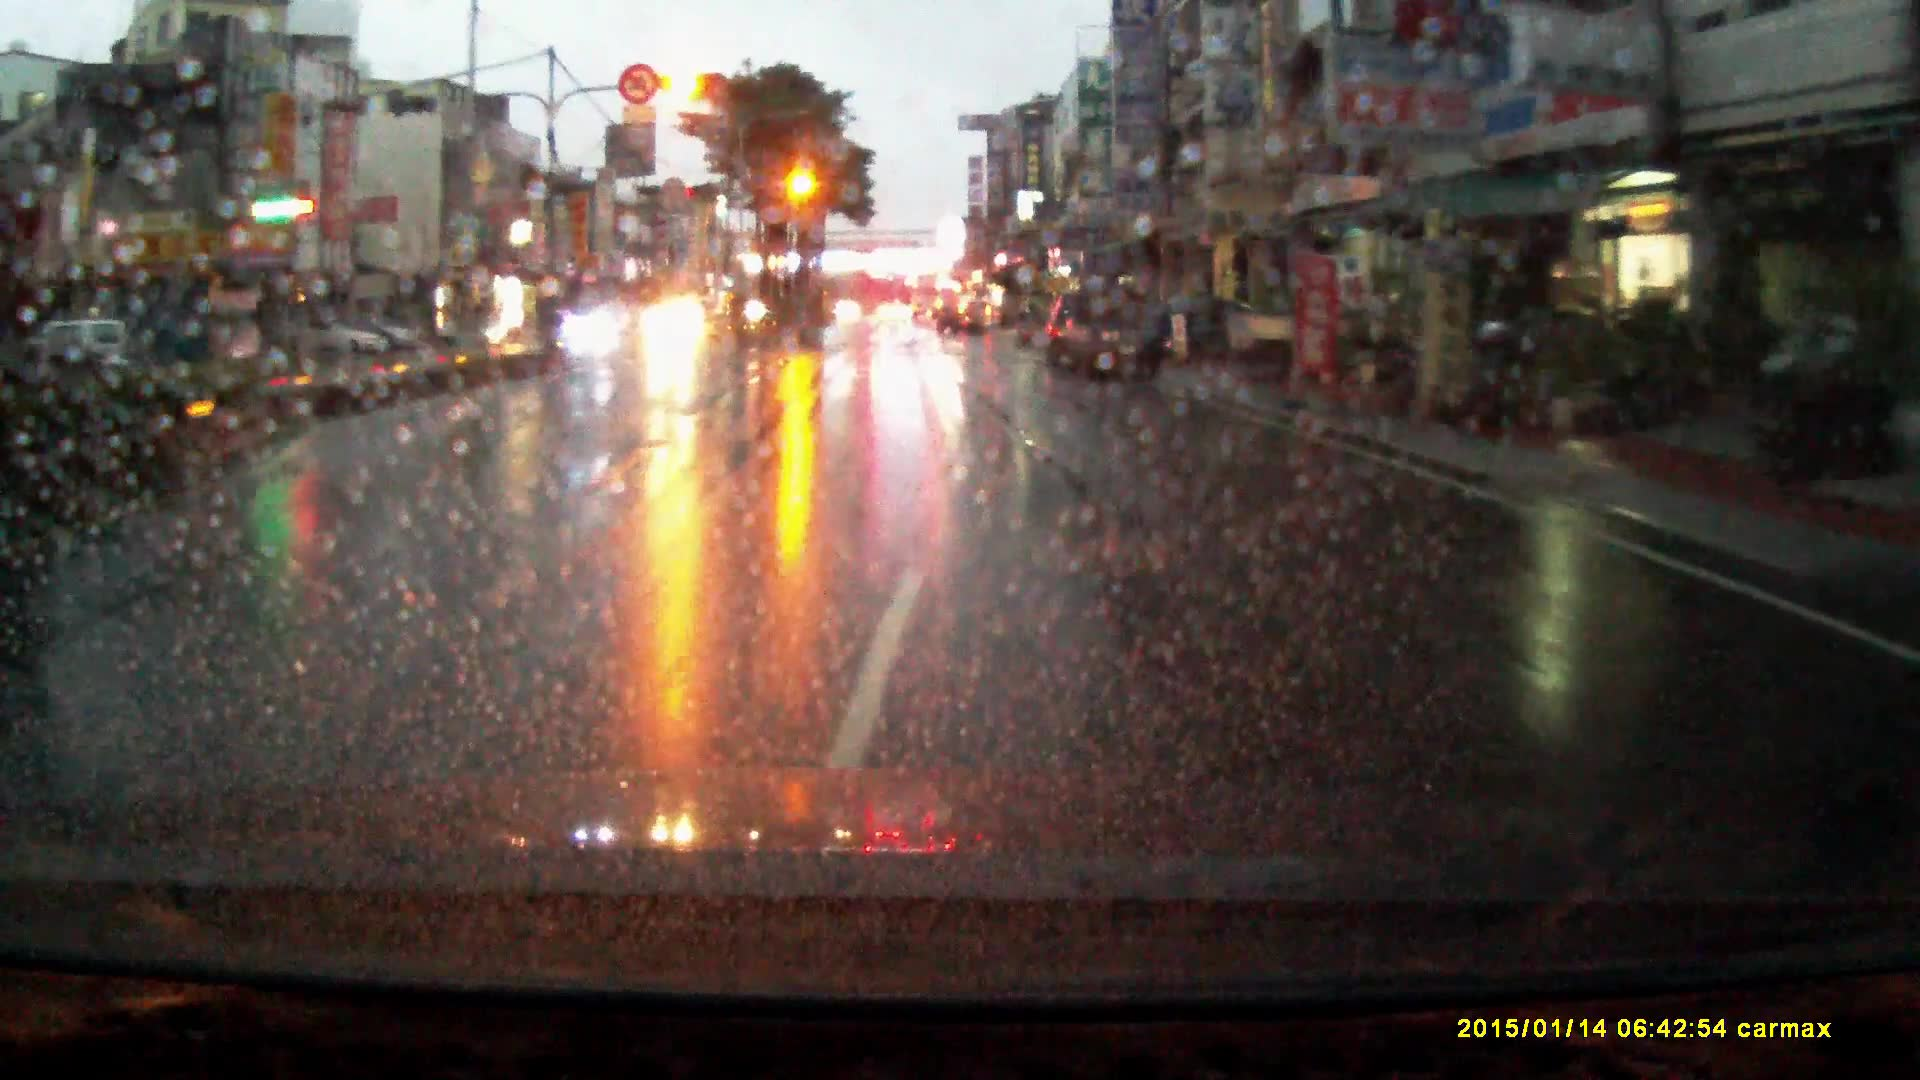vehicle: (1062, 280, 1172, 382), (285, 316, 380, 357), (640, 297, 712, 348), (1222, 311, 1307, 353), (566, 305, 626, 349), (1043, 290, 1076, 367), (938, 293, 996, 335), (450, 313, 509, 348), (361, 320, 422, 353), (911, 272, 944, 316), (877, 301, 913, 323)
